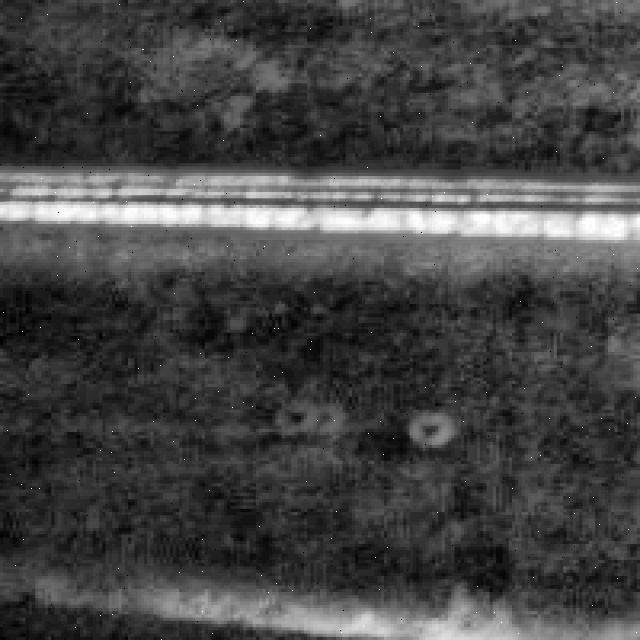Inclusion: (0, 140, 637, 244)
